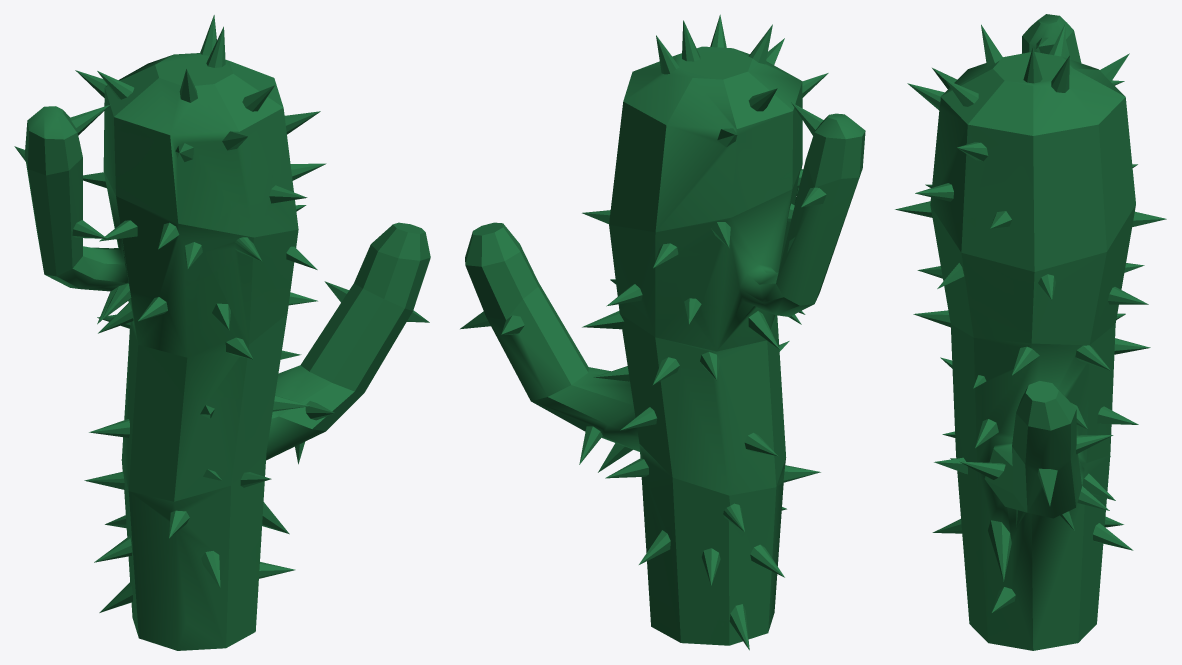
File: CACTUS_v2.fbx
3 views of the same model, side by side, from view 1: azimuth 30°, elevation 25°; view 2: azimuth 150°, elevation 25°; view 3: azimuth 270°, elevation 25° (orthographic).
Parts seen in each view (by area): view 1: KAKTUS; view 2: KAKTUS; view 3: KAKTUS.
Part boxes in pixels (box(x1,y1,x2,y2)): KAKTUS: box(14, 15, 430, 650); KAKTUS: box(460, 14, 865, 650); KAKTUS: box(895, 14, 1166, 650).
Size of the model in its own units: 501 by 705 by 295.
1 material, 1 textured.
